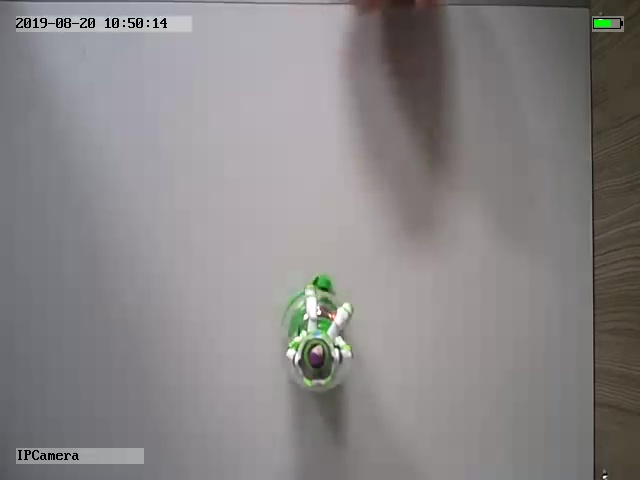buzz: (278, 274, 356, 396)
